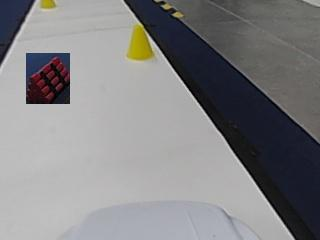cone: (127, 27, 154, 60)
